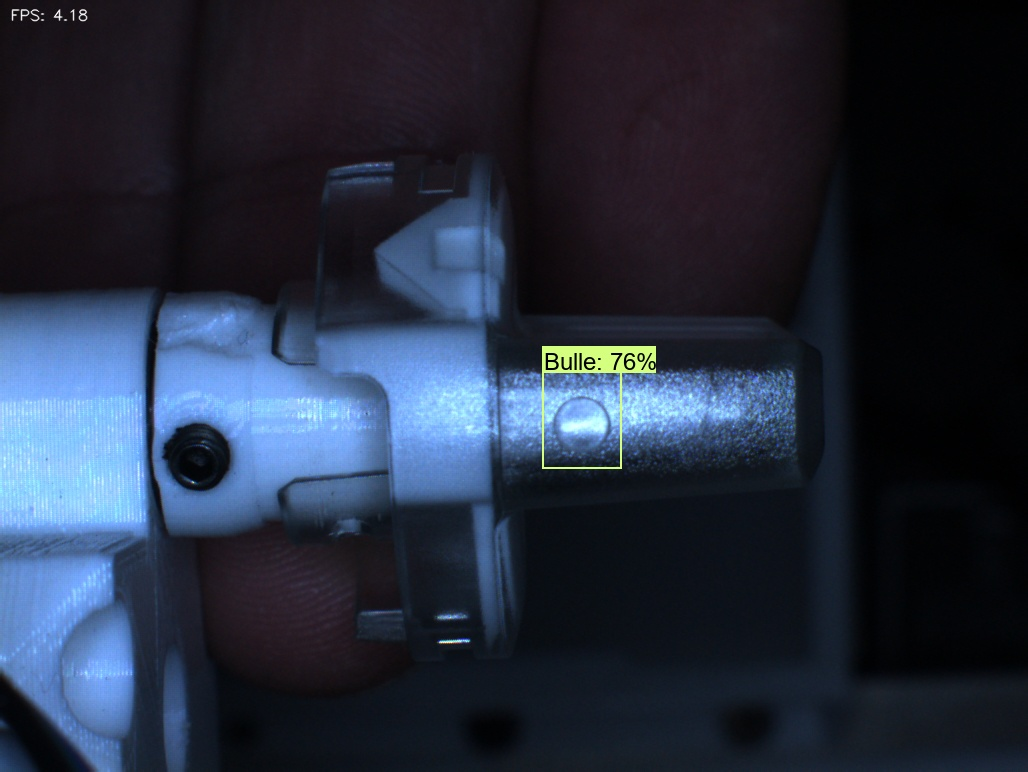DentOk: (346, 213, 431, 311)
